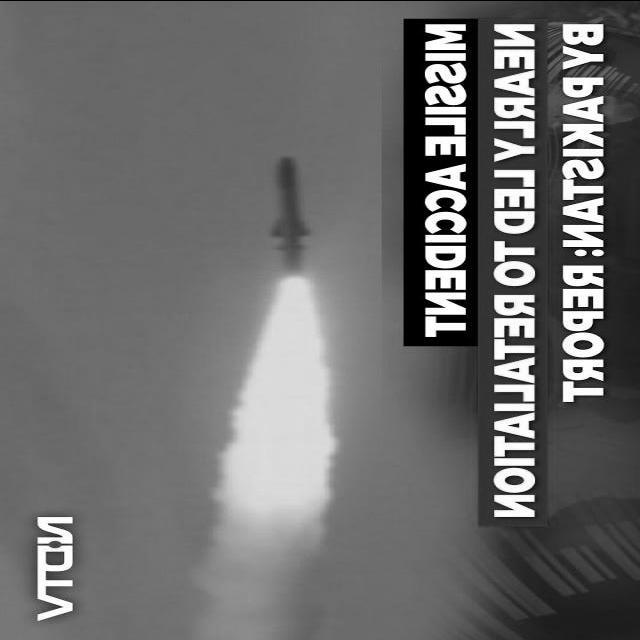missile: (263, 156, 311, 283)
